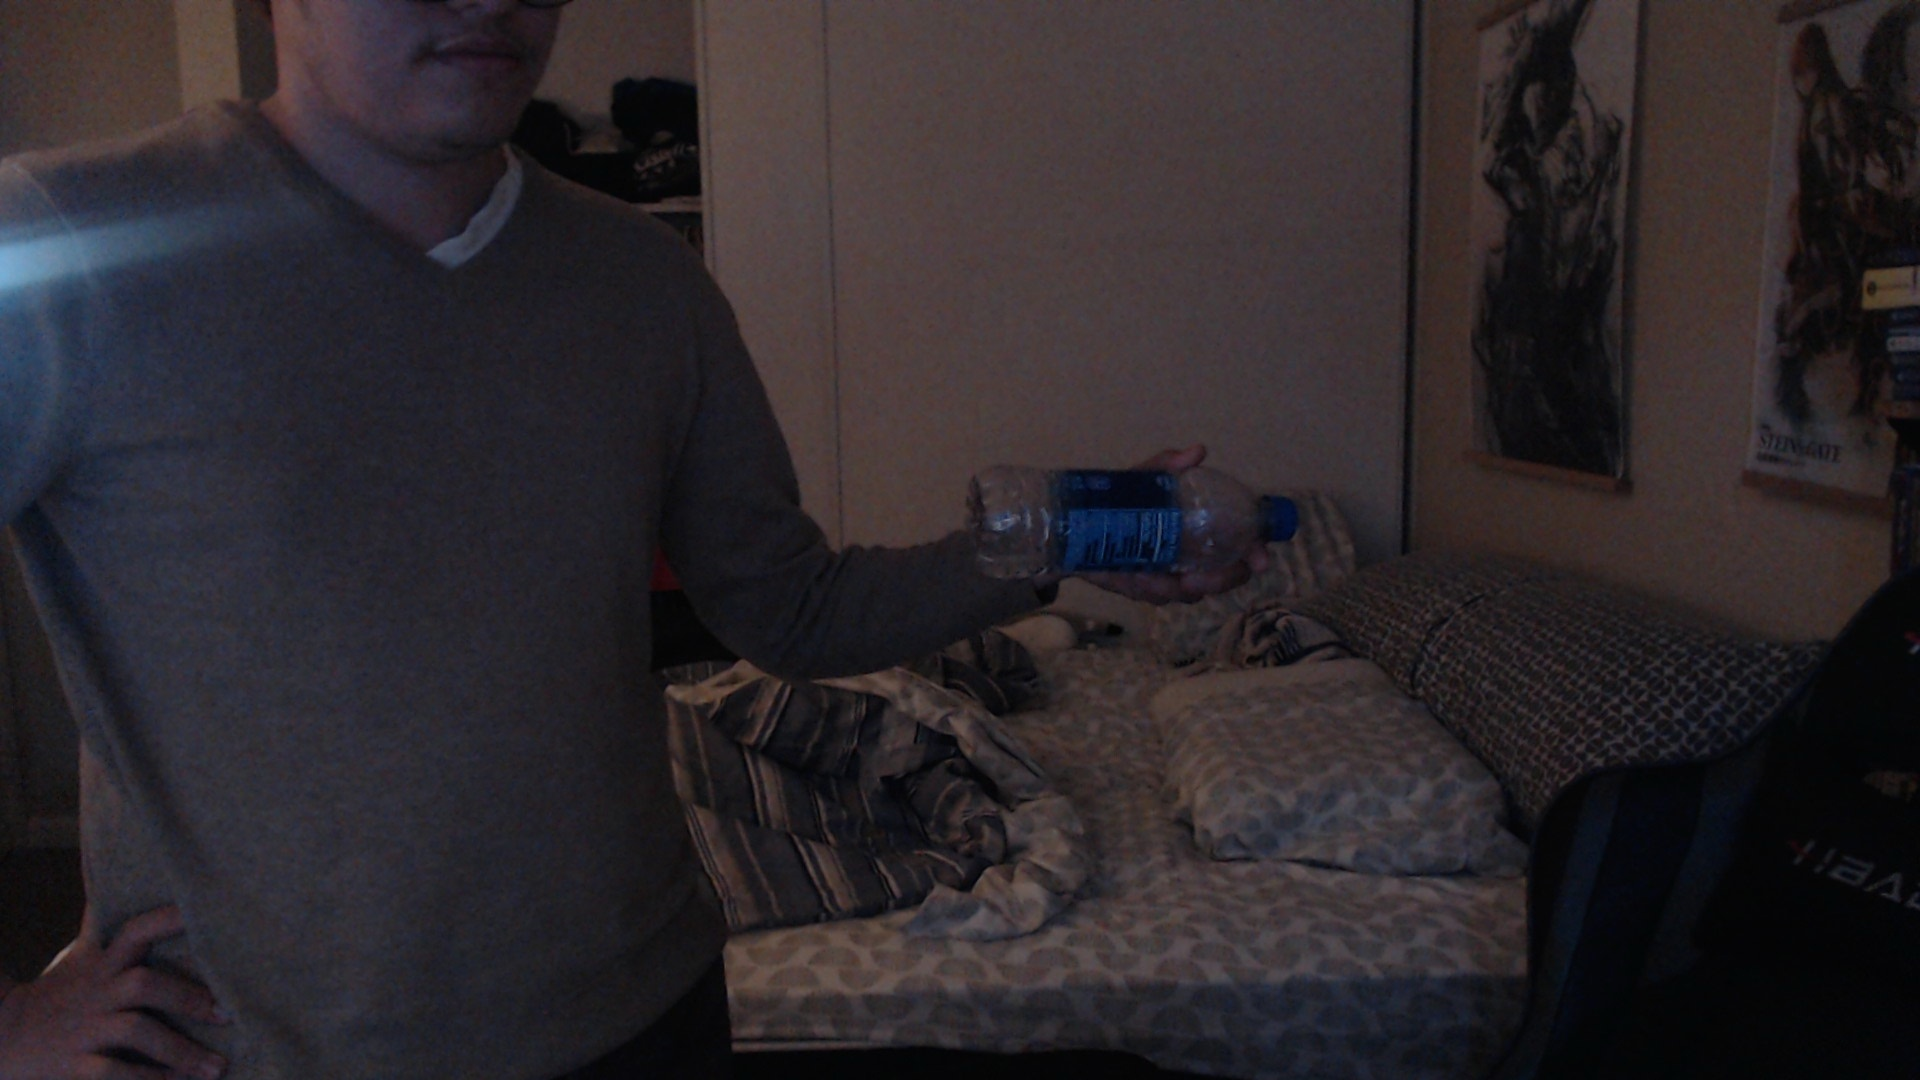bottle: (959, 458, 1294, 583)
